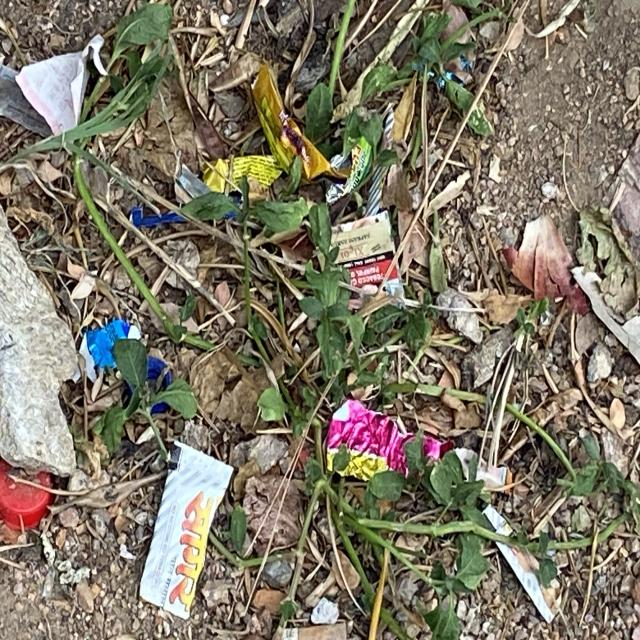giay: (14, 33, 107, 134), (331, 210, 395, 287), (387, 264, 402, 293)
giay_goi: (139, 442, 232, 620), (252, 61, 349, 179), (327, 399, 415, 481), (78, 319, 140, 382), (326, 136, 372, 203), (424, 436, 453, 460)
